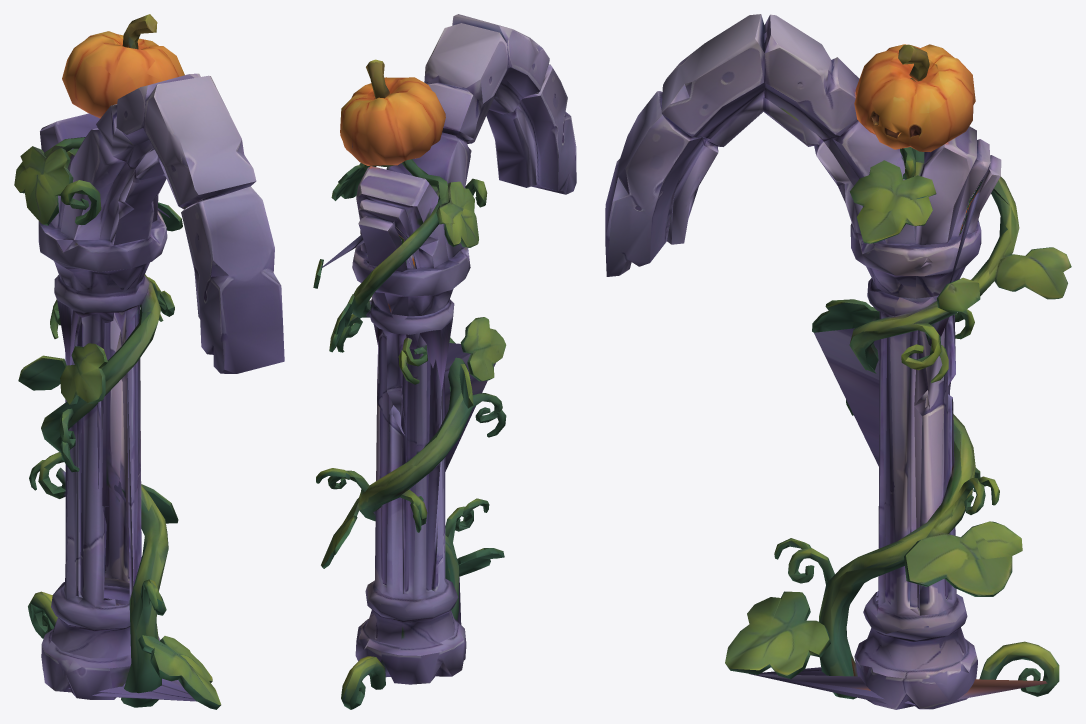
File: L1_ArchColumn_LOD2.fbx
3 views of the same model, side by side, from view 1: azimuth 30°, elevation 25°; view 2: azimuth 150°, elevation 25°; view 3: azimuth 270°, elevation 25° (orthographic). The views are drawn at different scales.
Parts seen in each view (by area): view 1: L1_ArchColumn_LOD2; view 2: L1_ArchColumn_LOD2; view 3: L1_ArchColumn_LOD2.
Part boxes in pixels (x1,y1,x2,y2): L1_ArchColumn_LOD2: (14,14,284,709); L1_ArchColumn_LOD2: (313,14,576,709); L1_ArchColumn_LOD2: (605,14,1071,709).
Bounding box in the file's own units: 2.01 × 7.51 × 4.73.
Materials: 1 (1 with a texture image).
